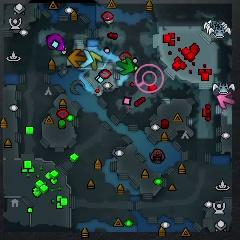p3: (45, 33, 65, 51)
x1: (217, 90, 235, 109)
x2: (89, 50, 103, 71)
x3: (80, 49, 94, 68)
x4: (116, 58, 133, 75)
x5: (69, 49, 86, 68)
